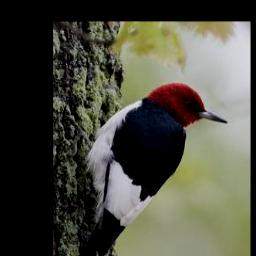Woodpecker: (69, 79, 236, 256)
